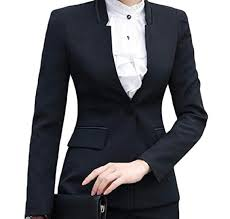F_W_suit jacket: (23, 1, 214, 219)
